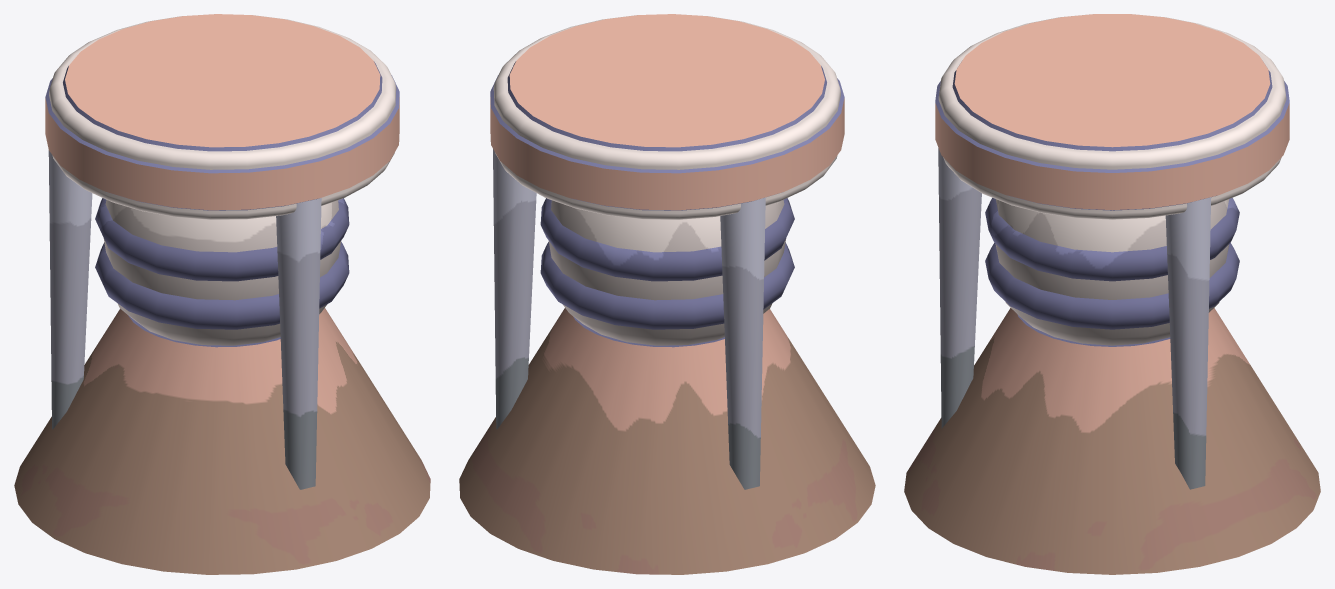
The model's file is R4X_JumpDrive.glb.
3 views of the same model, side by side, from view 1: azimuth 30°, elevation 25°; view 2: azimuth 150°, elevation 25°; view 3: azimuth 270°, elevation 25° (orthographic).
Parts seen in each view (by area): view 1: R4X_JumpDrive_Body; view 2: R4X_JumpDrive_Body; view 3: R4X_JumpDrive_Body.
Part boxes in pixels (x1,y1,x2,y2): R4X_JumpDrive_Body: (14,14,430,574); R4X_JumpDrive_Body: (459,14,875,574); R4X_JumpDrive_Body: (904,14,1320,574).
Size of the model in its own units: 0.4686 by 0.51 by 0.4693.
5 materials, 4 textured.
